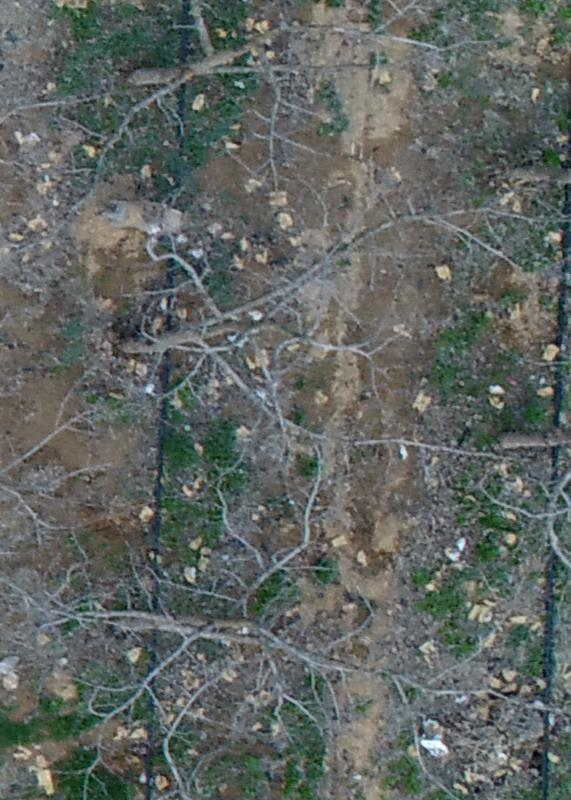apple: (14, 502, 512, 790), (89, 202, 525, 508), (105, 10, 427, 184)
